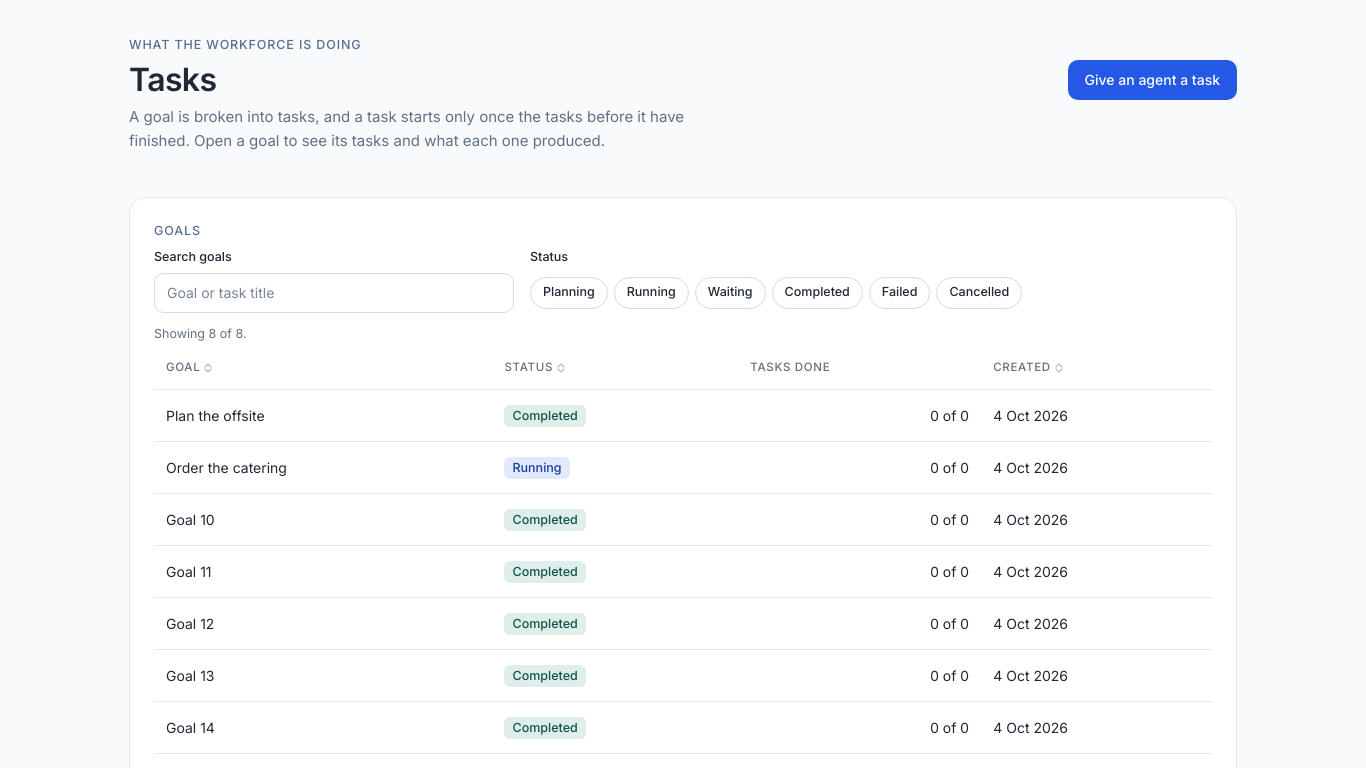
it: Tasks: the status filter runs on the server › asks for no status at first, then for failed goals when Failed is chosen, and shows the older failure
Expected: the link "Plan the offsite" is shown, 166,407 -> 265,424
Click the button "Failed" at (900, 293), box 869,277 -> 930,309
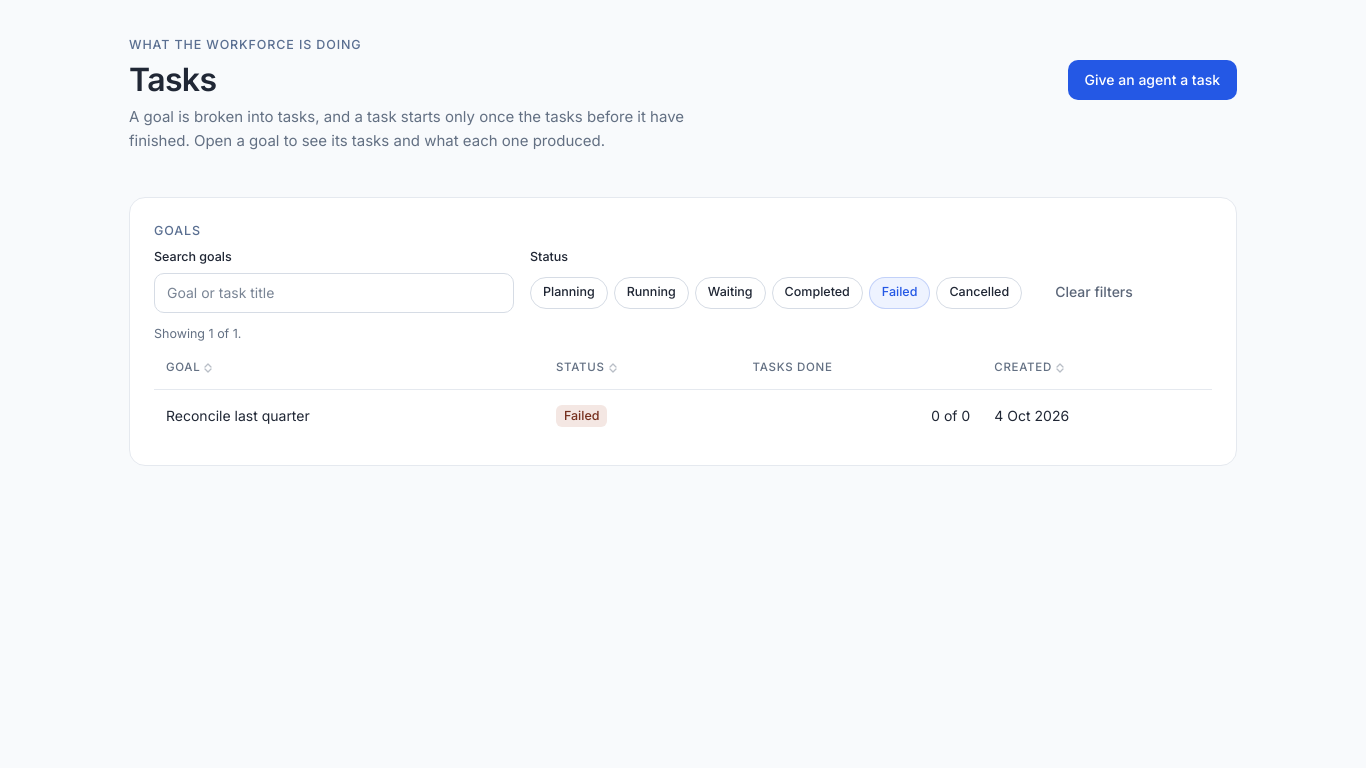
Expected: the link "Reconcile last quarter" is shown, 166,407 -> 310,424
